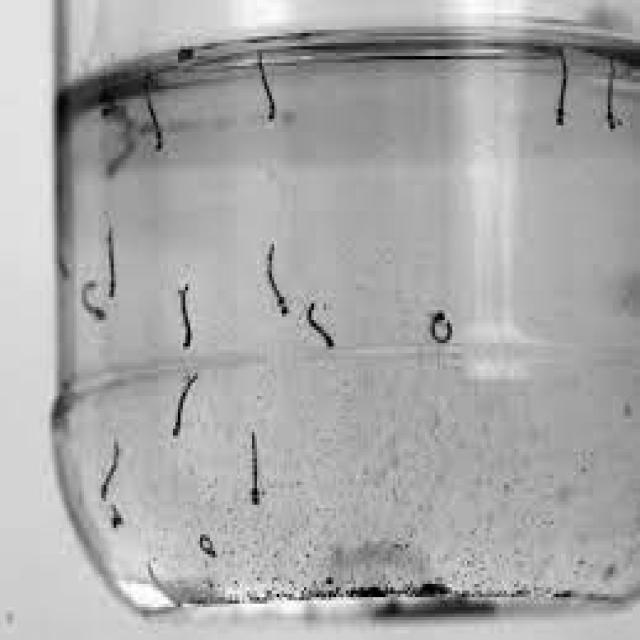larvas: (266, 246, 288, 317), (304, 300, 335, 346), (174, 376, 198, 435), (257, 48, 276, 122), (102, 224, 121, 298), (552, 51, 570, 126), (177, 284, 196, 350), (82, 276, 107, 322), (248, 430, 262, 506), (147, 89, 164, 150), (107, 137, 135, 173), (103, 442, 119, 501), (608, 63, 620, 133), (428, 312, 454, 342), (198, 534, 216, 556)
